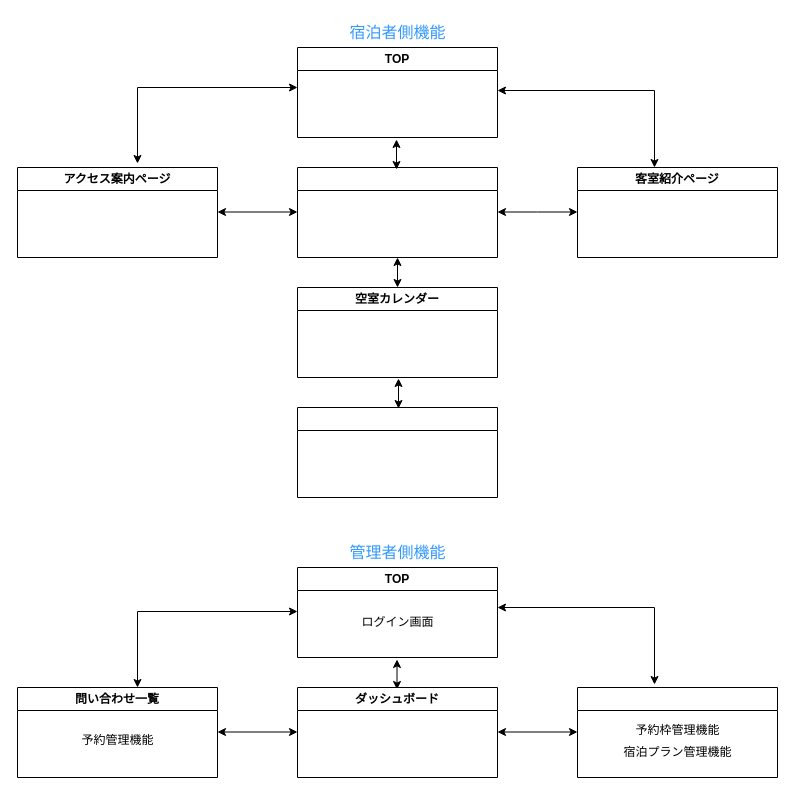
This 795x795 diagram has some shape labels left out. Each missing label, with the box of its shape:
宿泊プラン一覧: (296, 166, 498, 258)
宿泊予約ページ: (296, 406, 498, 498)
宿泊設定: (576, 686, 778, 778)
